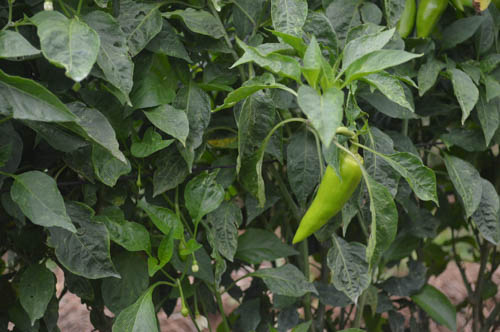ChiliPepper: (292, 152, 366, 247)
